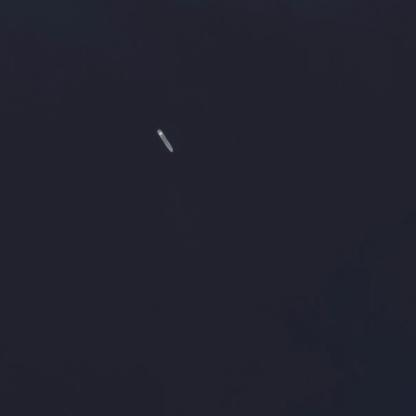ship: (153, 120, 176, 157)
